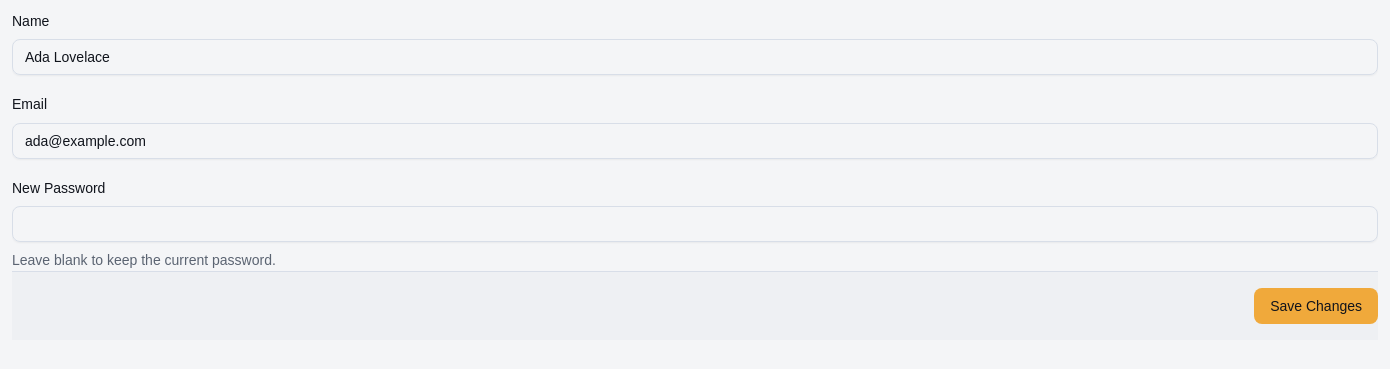
Test case: EditUserForm › shows a validation error and blocks submission when the email is invalid
Replace the text in the field labelled "Email" with "notanemail". click: (695, 140)
box: [12, 122, 1378, 158]
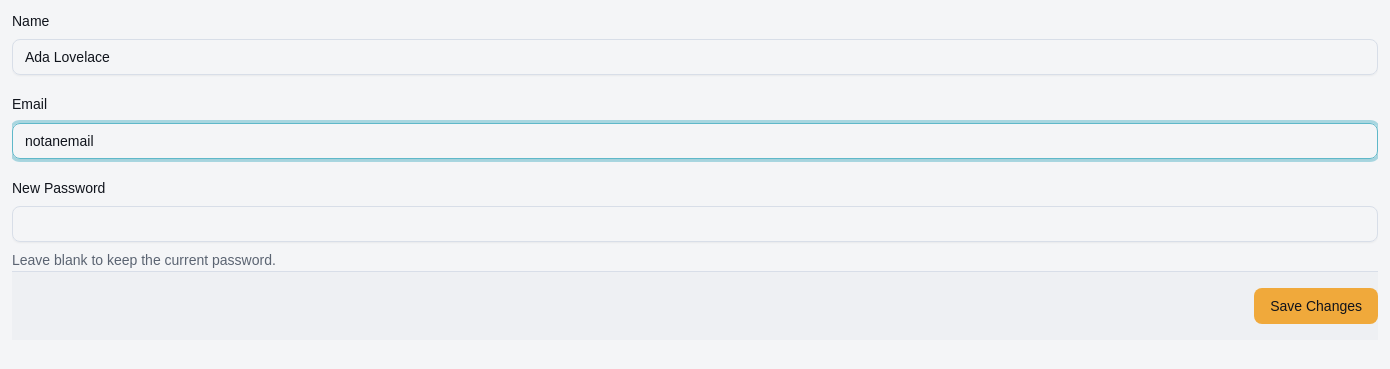
Click the button "Save Changes". click: (1316, 306)
box: [1254, 288, 1378, 324]
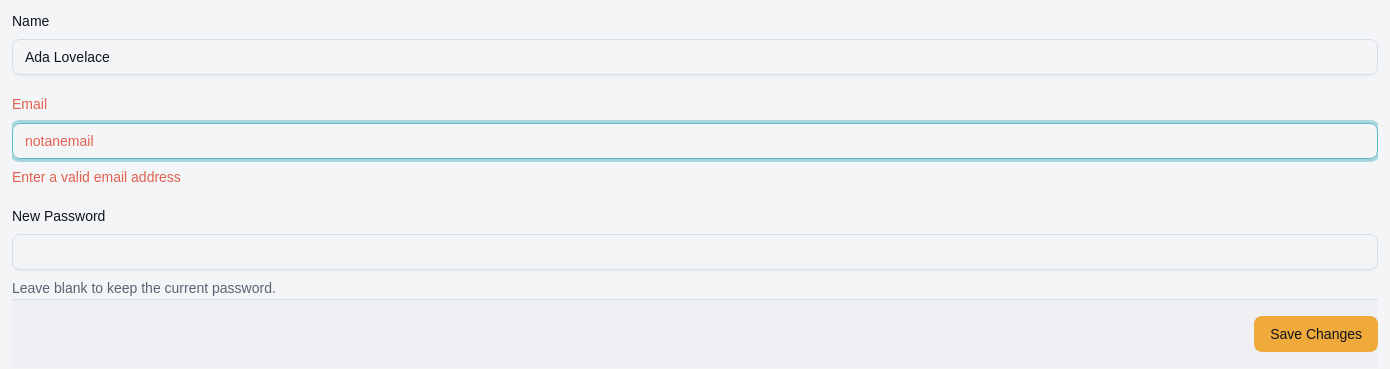
Now the text "Enter a valid email address" is shown, box [12, 168, 181, 184]
